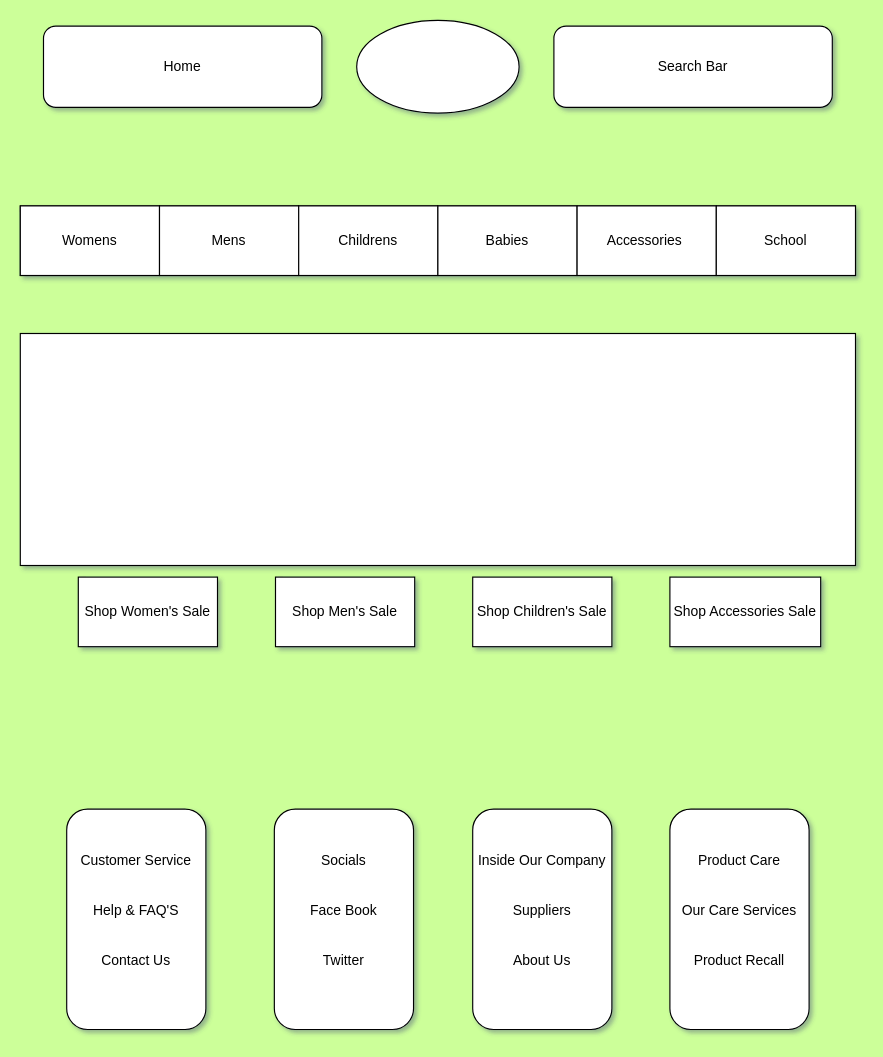
Some shapes in this 883 by 1057 pixel diagram are drawn without their labels. Each missing label, with the centre of its shape:
"Logo" goes at point 437,66.
"Most Popular Product with a sale on." goes at point 437,449.
